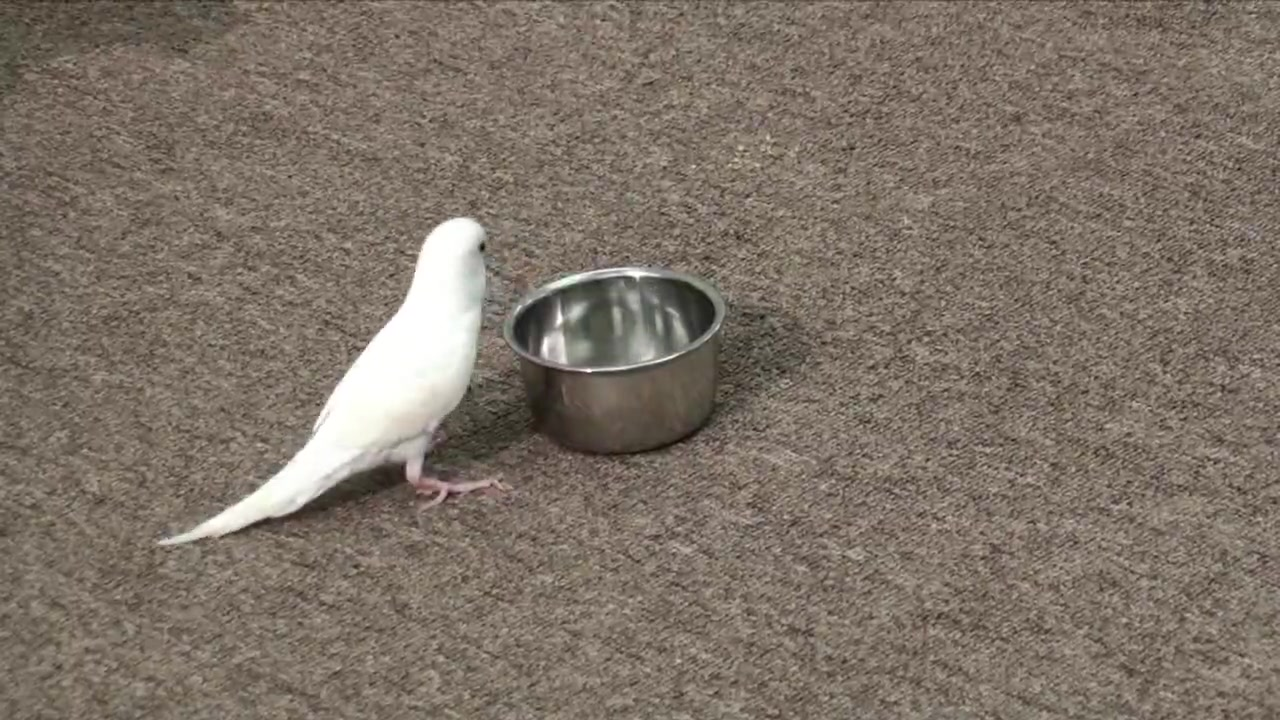bird: (158, 217, 508, 549)
